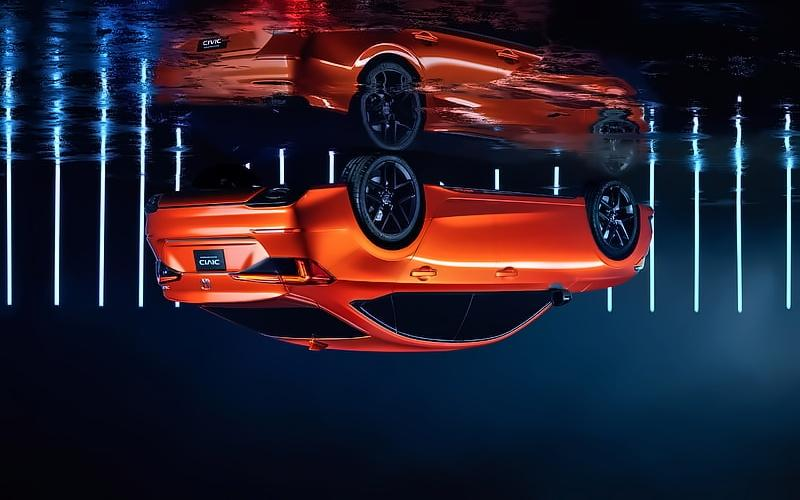Car boot: (142, 237, 319, 312)
Car hood: (566, 250, 639, 304), (632, 194, 656, 267)
Fender - -F-L-: (559, 178, 633, 315)
Fender - -R-L-: (284, 180, 362, 297)
Headlight - -L-: (630, 246, 650, 283)
Passenger-s door - -F-L-: (472, 196, 577, 349)
Passenger-s door - -R-L-: (386, 187, 495, 346)
Rear bumper: (134, 182, 302, 233)
Rear light - -L-: (230, 248, 337, 294)
Rear light - -R-: (150, 253, 187, 290)
Side bumper - -L-: (421, 184, 589, 220)
Side mirror - -L-: (541, 284, 583, 317)
